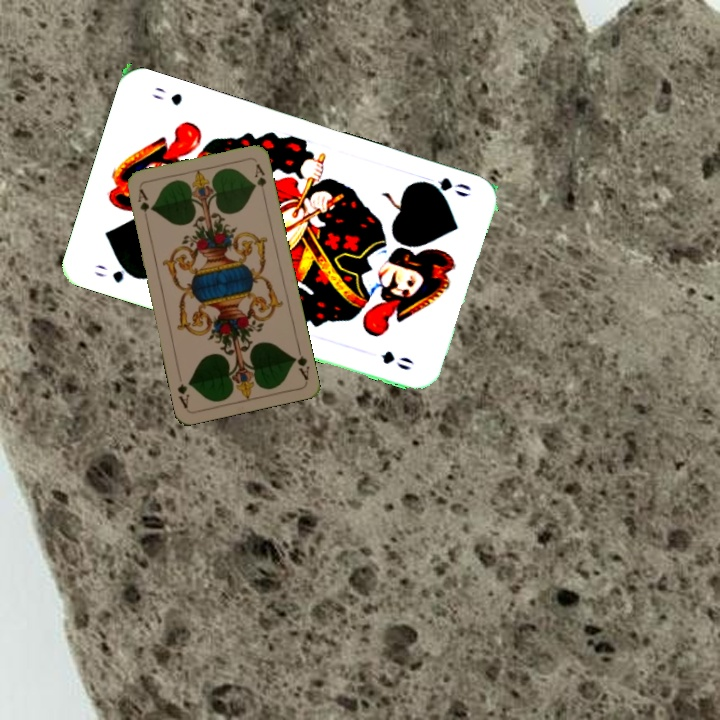GA: (289, 343, 312, 383), (134, 185, 152, 225)
GO: (417, 172, 473, 200), (91, 260, 145, 286)
